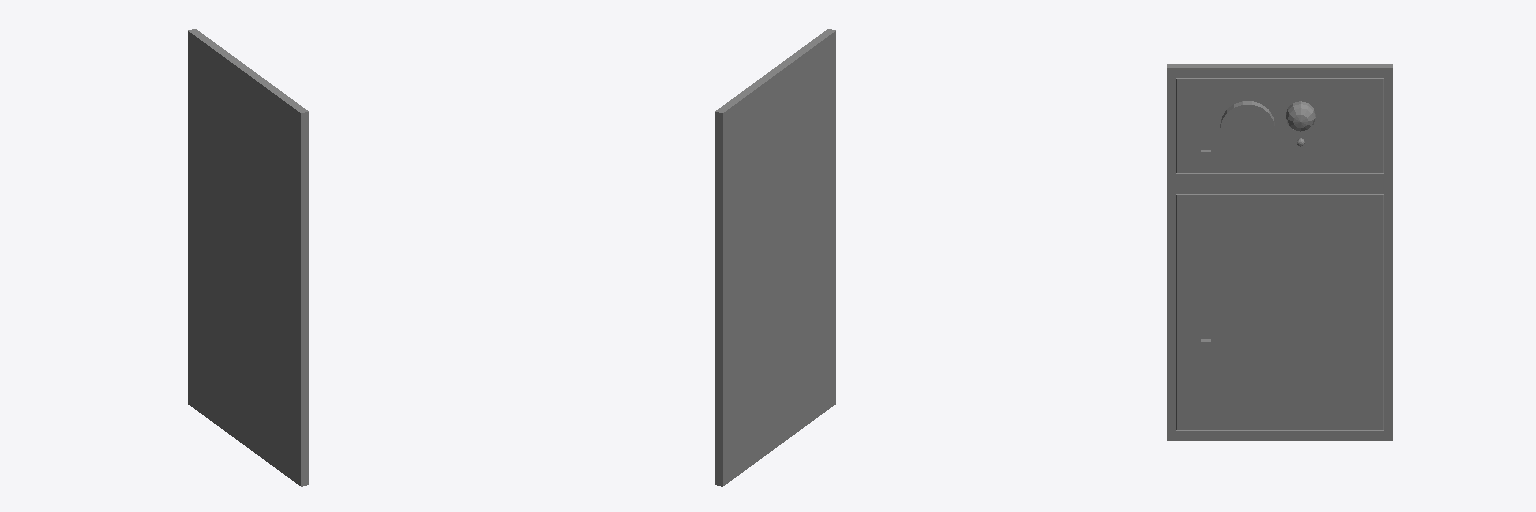
The model's file is Fire_hydrant.obj.
3 renders of one model, left to right at view 1: azimuth 30°, elevation 25°; view 2: azimuth 150°, elevation 25°; view 3: azimuth 270°, elevation 25°, orthographic.
Parts seen in each view (by area): view 1: ???; view 2: ???; view 3: ???.
Part boxes in pixels (left/top/right/bottom): ???: left=188, top=29, right=308, bottom=486; ???: left=715, top=29, right=835, bottom=486; ???: left=1167, top=64, right=1392, bottom=440.
Size of the model in its own units: 0.088 by 1.37 by 0.7538.